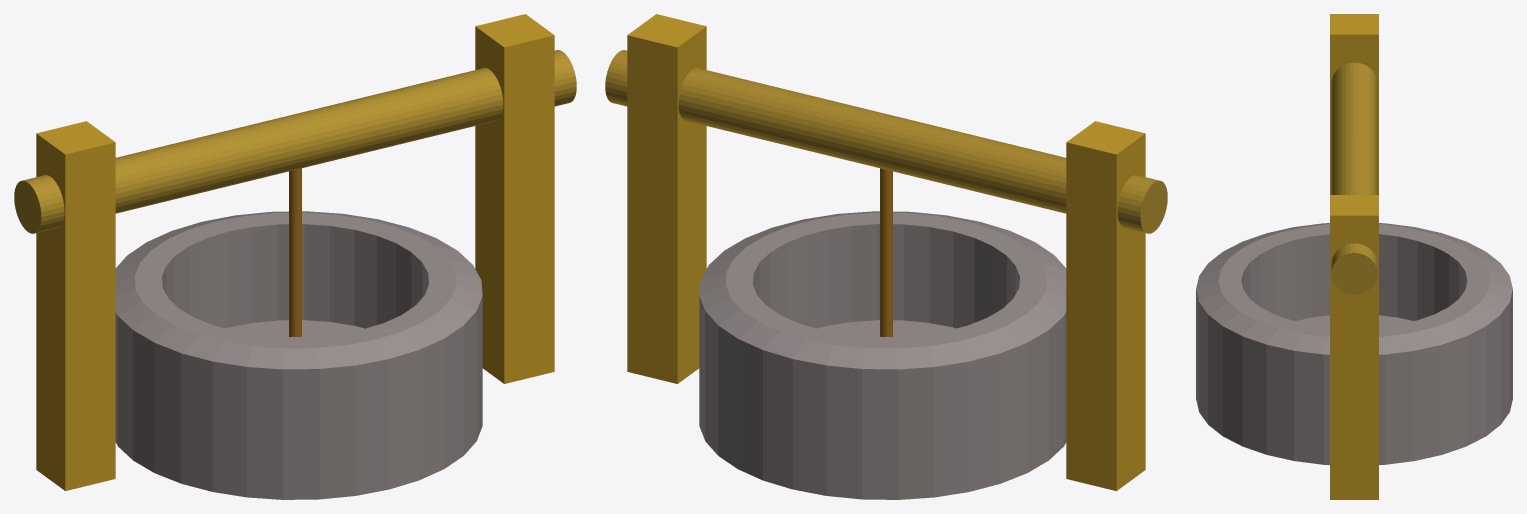
Rendered from well.fbx.
3 views of the same model, side by side, from view 1: azimuth 30°, elevation 25°; view 2: azimuth 150°, elevation 25°; view 3: azimuth 270°, elevation 25° (orthographic). The views are drawn at different scales.
Visible parts, largest first — view 1: well, well_stake, well_stake2, well_rope; view 2: well, well_stake, well_stake2, well_rope; view 3: well, well_stake, well_stake2.
Part boxes in pixels (x1=…): well: x1=115, y1=211, x2=482, y2=499; well_stake: x1=36, y1=14, x2=554, y2=490; well_stake2: x1=14, y1=50, x2=576, y2=233; well_rope: x1=289, y1=168, x2=301, y2=336; well: x1=699, y1=211, x2=1066, y2=499; well_stake: x1=627, y1=14, x2=1145, y2=490; well_stake2: x1=605, y1=50, x2=1167, y2=233; well_rope: x1=880, y1=168, x2=892, y2=336; well: x1=1196, y1=223, x2=1512, y2=464; well_stake: x1=1330, y1=14, x2=1378, y2=499; well_stake2: x1=1331, y1=62, x2=1377, y2=294.
Bounding box in the file's own units: 506 × 304 × 307.
